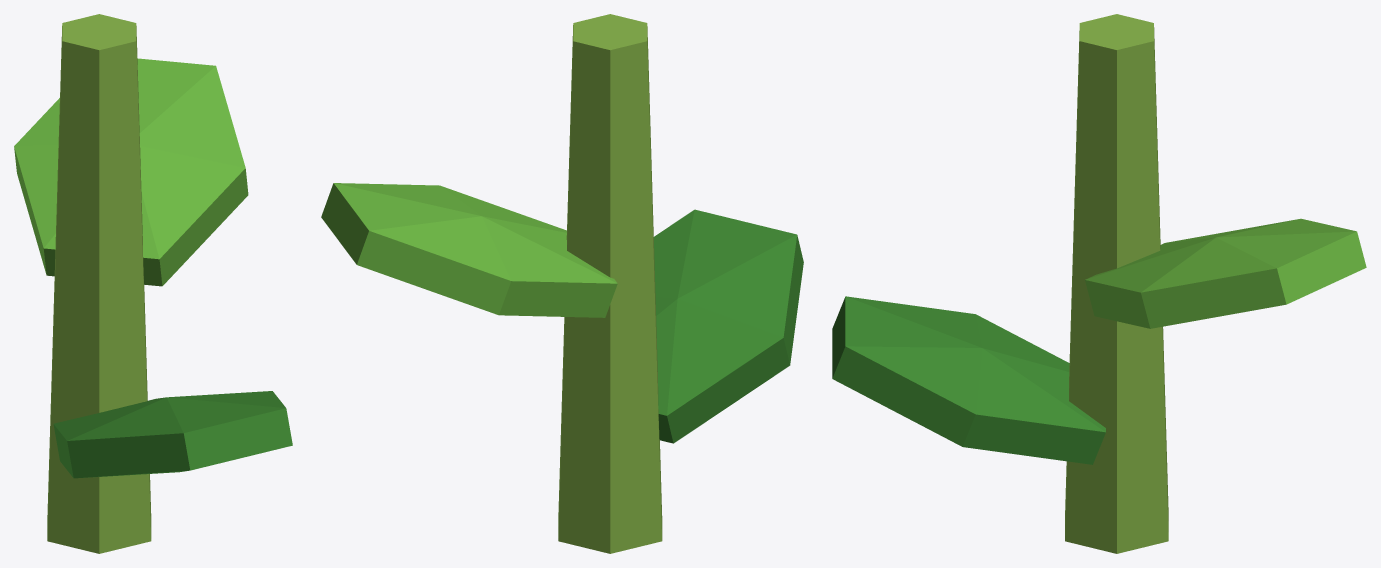
The model's file is sunflower_2.obj.
3 renders of one model, left to right at view 1: azimuth 30°, elevation 25°; view 2: azimuth 150°, elevation 25°; view 3: azimuth 270°, elevation 25°, orthographic.
Parts seen in each view (by area): view 1: plant; view 2: plant; view 3: plant.
Part boxes in pixels (<box>): plant: <box>14,14,292,553</box>; plant: <box>321,14,803,553</box>; plant: <box>832,14,1366,553</box>.
Bounding box in the file's own units: 0.2071 × 0.32 × 0.3121.
